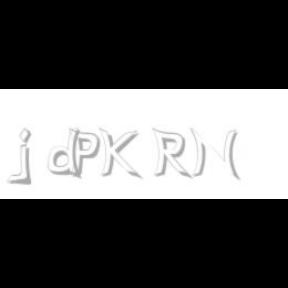K: (99, 128, 139, 180)
N: (190, 128, 238, 180)
P: (68, 128, 100, 178)
R: (152, 128, 190, 180)
d: (48, 128, 84, 180)
j: (16, 128, 46, 186)
